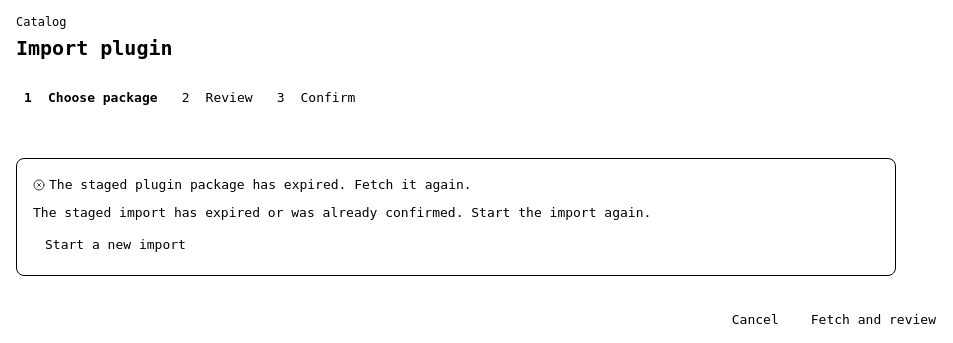
Test: /admin/catalog/import (WizardPage) › ?staging=<id> expired or confirmed: says so; starting over shows the source step
Expected: the text "The staged plugin package has expired. Fetch it again." is shown, [33,177,472,192]
Expected: the text "The staged import has expired or was already confirmed. Start the import again." is shown, [33,205,651,220]
What coordinates should you click on to do the following:
click the button "Start a new import"
I would click on:
 (115, 245)
Its box is [33,231,198,259].
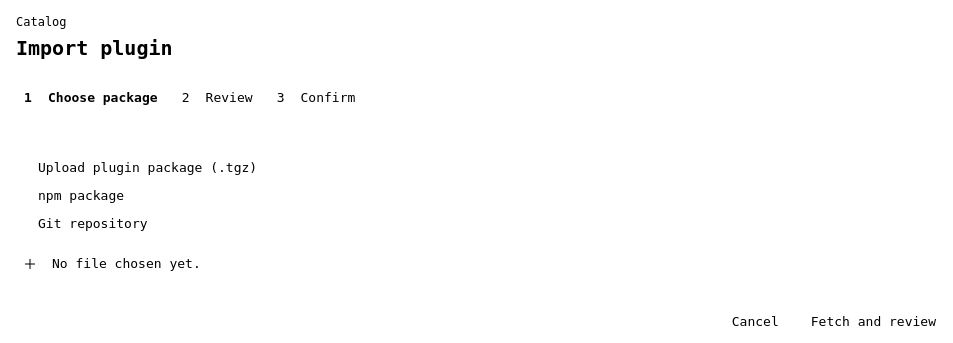
Result: the radio button labelled "npm package" is shown at [38,188,124,203]
Result: the text "The staged import has expired or was already confirmed. Start the import again." is gone
